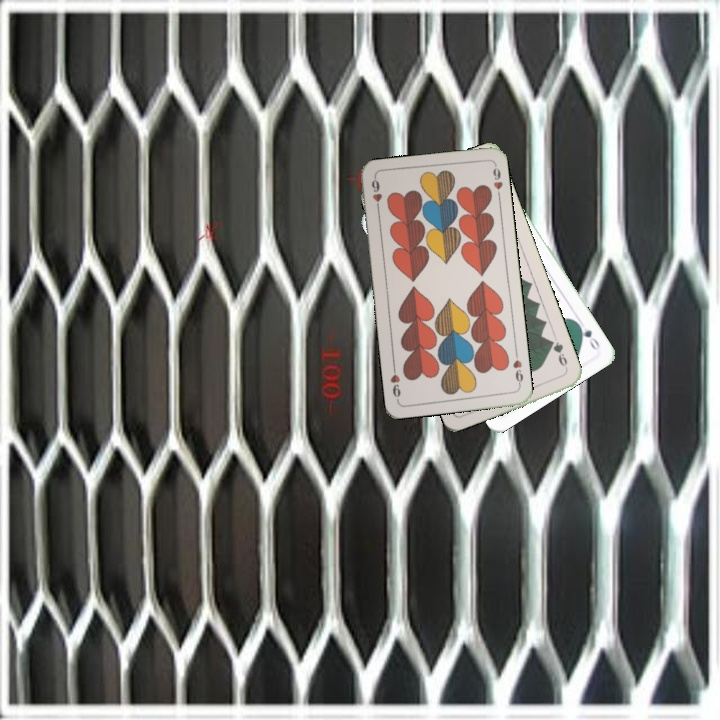G9: (545, 336, 571, 373)
GO: (573, 318, 602, 353)
H9: (367, 174, 384, 215), (509, 349, 526, 389)
